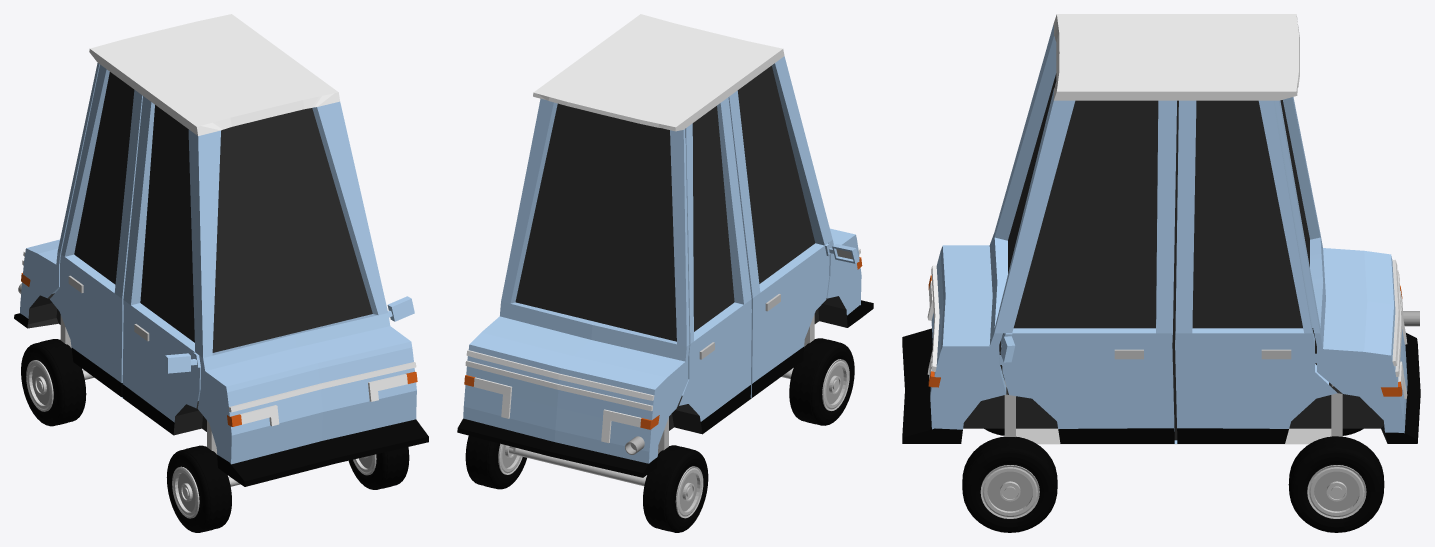
The model's file is CR-CAR-11.fbx.
3 renders of one model, left to right at view 1: azimuth 30°, elevation 25°; view 2: azimuth 150°, elevation 25°; view 3: azimuth 270°, elevation 25°, orthographic. The views are drawn at different scales.
Visible parts, largest first — view 1: BODY, WHEEL.004, WHEEL.001, WHEEL.003; view 2: BODY, WHEEL.004, WHEEL.001, WHEEL.002; view 3: BODY, WHEEL.002, WHEEL.003, WHEEL.001, WHEEL.004.
Part boxes in pixels (x1,y1,x2,y2): BODY: (14,14,428,486); WHEEL.004: (21,315,93,426); WHEEL.001: (166,421,240,532); WHEEL.003: (348,447,409,489); BODY: (457,14,873,477); WHEEL.004: (509,417,708,532); WHEEL.001: (781,314,854,425); WHEEL.002: (465,435,526,489); BODY: (902,14,1420,443); WHEEL.002: (1288,436,1384,532); WHEEL.003: (962,436,1057,532); WHEEL.001: (984,380,1331,444); WHEEL.004: (1331,385,1363,436).
Bounding box in the file's own units: 131 × 193 × 212.
